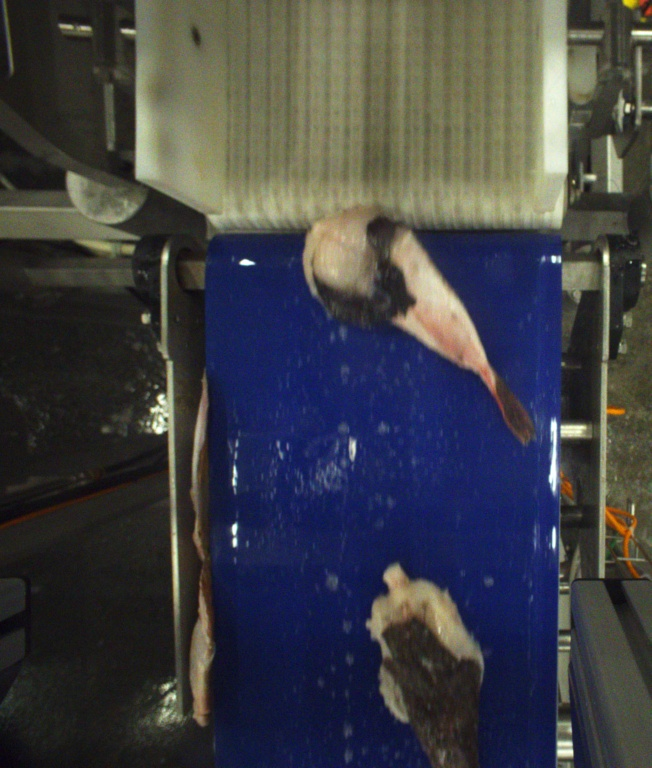ANF: (302, 200, 542, 452)
